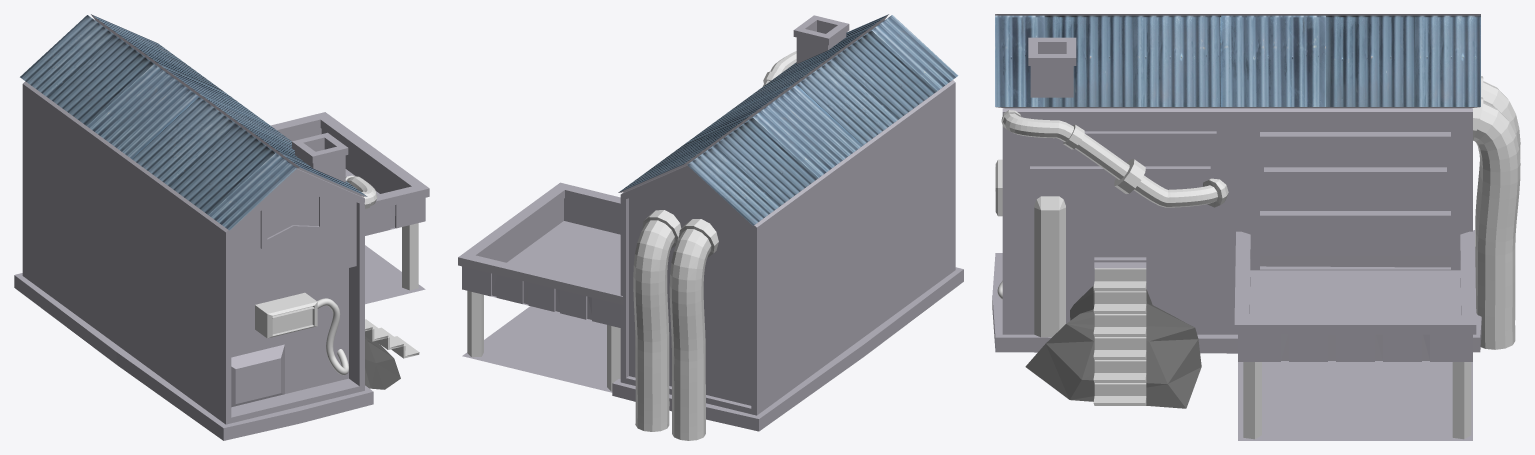
File: Maison.dae
The picture shows the model from 3 angles, left to right: view 1: azimuth 30°, elevation 25°; view 2: azimuth 150°, elevation 25°; view 3: azimuth 270°, elevation 25°; orthographic projection. The views are drawn at different scales.
Parts seen in each view (by area): view 1: Maison, Cube, Cube.002, Piliers, BezierCurve.001, Escalier, BezierCurve; view 2: Maison, BezierCurve.004, Piliers; view 3: Maison, BezierCurve.004, Cube.002, Escalier, BezierCurve, Cube.003, Piliers.
Boxes of the visible parts, <box> form: Maison: <box>14,14,429,440</box>; Cube: <box>255,292,317,338</box>; Cube.002: <box>365,336,400,389</box>; Piliers: <box>402,223,418,290</box>; BezierCurve.001: <box>317,298,348,375</box>; Escalier: <box>365,319,419,358</box>; BezierCurve: <box>345,175,377,209</box>; Maison: <box>458,14,963,431</box>; BezierCurve.004: <box>633,210,718,440</box>; Piliers: <box>467,291,620,391</box>; Maison: <box>992,14,1481,440</box>; BezierCurve.004: <box>1473,76,1520,349</box>; Cube.002: <box>1025,286,1201,408</box>; Escalier: <box>1093,268,1146,405</box>; BezierCurve: <box>1001,110,1228,207</box>; Cube.003: <box>1034,196,1065,337</box>; Piliers: <box>1243,362,1471,439</box>.
Bounding box in the file's own units: 26.56 × 33.67 × 21.98.
Materials: 4 (1 with a texture image).
